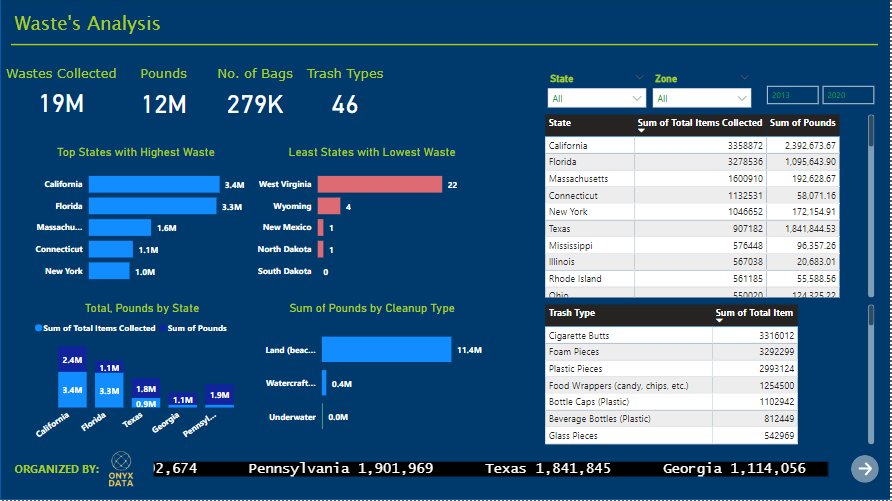

Layout of this report page (visuals, bound fields, positions):
{"tool":"powerbi","page":{"name":"WASTES","canvas":[1280,720],"ordinal":2},"visuals":[{"type":"shape","box":[0,0,1280,720],"z":0},{"type":"card","title":"No. of Bags","fields":{"Values":["My Measures.Total No of Bags"]},"box":[301.8,95.1,129.3,81.9],"z":0,"group":"g1"},{"type":"card","title":"Wastes Collected","fields":{"Values":["My Measures.Total waste collected"]},"box":[0,95.5,175.3,79],"z":1000,"group":"g1"},{"type":"card","title":"Trash Types","fields":{"Values":["CountNonNull(Trash Categories.Trash Type)"]},"box":[431.1,94.9,129.3,81.9],"z":1000},{"type":"card","title":"Pounds","fields":{"Values":["My Measures.Total pounds"]},"box":[168.4,94.9,133.7,81.9],"z":2000,"group":"g1"},{"type":"shape","box":[15.7,57.1,1245.7,15.7],"z":2000},{"type":"image","box":[144.3,645.7,60,60],"z":3000},{"type":"textbox","box":[15.7,660,141.4,31.4],"z":4000},{"type":"actionButton","box":[1222.9,655.7,40,40],"z":6000},{"type":"ScrollingTextVisual1448795304508","fields":{"Category":["Onyx Data DataDNA Dataset Challenge - July 2023.State"],"Measure Absolute":["My Measures.Total pounds"]},"box":[215.7,660,978.6,31.4],"z":7000},{"type":"textbox","box":[15.8,10.1,291.7,54.6],"z":8000},{"type":"tableEx","fields":{"Values":["Onyx Data DataDNA Dataset Challenge - July 2023.State","Sum(Onyx Data DataDNA Dataset Challenge - July 2023.Total Items Collected)","Sum(Onyx Data DataDNA Dataset Challenge - July 2023.Pounds)"]},"box":[777.5,161,484.3,273.1],"z":9000},{"type":"group","id":"g1","title":"people","box":[0,94.9,431.1,82.1],"z":10000},{"type":"barChart","title":"Top States with Highest Waste","fields":{"Category":["Onyx Data DataDNA Dataset Challenge - July 2023.State"],"Y":["My Measures.Total waste collected"]},"box":[34.5,209.8,321.9,211.3],"z":11000},{"type":"columnChart","title":"Total, Pounds by State","fields":{"Category":["Onyx Data DataDNA Dataset Challenge - July 2023.State"],"Y":["Sum(Onyx Data DataDNA Dataset Challenge - July 2023.Total Items Collected)","Sum(Onyx Data DataDNA Dataset Challenge - July 2023.Pounds)"]},"box":[44.6,434,319,211.3],"z":12000},{"type":"clusteredBarChart","fields":{"Category":["Onyx Data DataDNA Dataset Challenge - July 2023.Cleanup Type"],"Y":["Sum(Onyx Data DataDNA Dataset Challenge - July 2023.Pounds)"]},"box":[363.6,434,342,209.8],"z":13000},{"type":"barChart","title":"Least States with Lowest Waste","fields":{"Category":["Onyx Data DataDNA Dataset Challenge - July 2023.State"],"Y":["Sum(Onyx Data DataDNA Dataset Challenge - July 2023.Total Items Collected)"]},"box":[363.6,209.8,342,211.3],"z":14000},{"type":"tableEx","fields":{"Values":["Min(Trash Type.Type)","Sum(Trash Type.Items Collected)"]},"box":[777.5,434,484.3,211.3],"z":15000},{"type":"slicer","fields":{"Values":["Onyx Data DataDNA Dataset Challenge - July 2023.State"]},"box":[777.5,100.6,161,73.3],"z":16000},{"type":"slicer","fields":{"Values":["Onyx Data DataDNA Dataset Challenge - July 2023.Zone"]},"box":[928.4,100.6,161,73.3],"z":17000},{"type":"slicer","title":"Cleanup Activities Over Time","fields":{"Values":["Calendar.Year"]},"box":[1089.3,115,173.9,46],"z":18000}]}

Visuals, with their boxes in screenshot pixels (x1, y1, x2, y2), scaled from the page's 1280x720 canvas onto the 892x501 screenshot:
shape: <bbox>0, 0, 891, 500</bbox>
"No. of Bags" card: <bbox>210, 66, 300, 123</bbox>
"Wastes Collected" card: <bbox>0, 66, 122, 121</bbox>
"Trash Types" card: <bbox>300, 66, 391, 123</bbox>
"Pounds" card: <bbox>117, 66, 211, 123</bbox>
shape: <bbox>11, 40, 879, 51</bbox>
image: <bbox>101, 449, 142, 491</bbox>
textbox: <bbox>11, 459, 109, 481</bbox>
actionButton: <bbox>852, 456, 880, 484</bbox>
ScrollingTextVisual1448795304508 - Onyx Data DataDNA Dataset Challenge - July 2023.State x My Measures.Total pounds: <bbox>150, 459, 832, 481</bbox>
textbox: <bbox>11, 7, 214, 45</bbox>
tableEx - Onyx Data DataDNA Dataset Challenge - July 2023.State x Sum(Onyx Data DataDNA Dataset Challenge - July 2023.Total Items Collected): <bbox>542, 112, 879, 302</bbox>
"people" group: <bbox>0, 66, 300, 123</bbox>
"Top States with Highest Waste" barChart: <bbox>24, 146, 248, 293</bbox>
"Total, Pounds by State" columnChart: <bbox>31, 302, 253, 449</bbox>
clusteredBarChart - Onyx Data DataDNA Dataset Challenge - July 2023.Cleanup Type x Sum(Onyx Data DataDNA Dataset Challenge - July 2023.Pounds): <bbox>253, 302, 492, 448</bbox>
"Least States with Lowest Waste" barChart: <bbox>253, 146, 492, 293</bbox>
tableEx - Min(Trash Type.Type) x Sum(Trash Type.Items Collected): <bbox>542, 302, 879, 449</bbox>
slicer - Onyx Data DataDNA Dataset Challenge - July 2023.State: <bbox>542, 70, 654, 121</bbox>
slicer - Onyx Data DataDNA Dataset Challenge - July 2023.Zone: <bbox>647, 70, 759, 121</bbox>
"Cleanup Activities Over Time" slicer: <bbox>759, 80, 880, 112</bbox>
